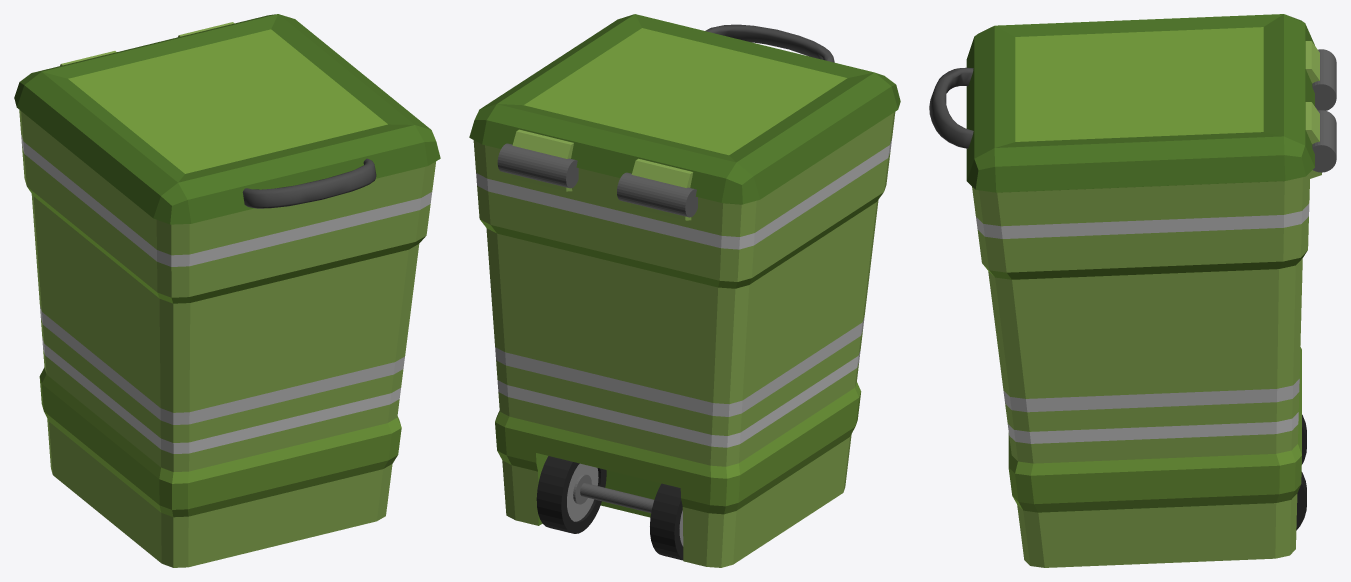
File: Garbage Can Plastic.fbx
3 views of the same model, side by side, from view 1: azimuth 30°, elevation 25°; view 2: azimuth 150°, elevation 25°; view 3: azimuth 270°, elevation 25° (orthographic). The views are drawn at different scales.
Visible parts, largest first — view 1: Garbage Can Plastic; view 2: Garbage Can Plastic; view 3: Garbage Can Plastic.
Part boxes in pixels (box(x1,y1,x2,y2)): Garbage Can Plastic: box(14, 14, 440, 567); Garbage Can Plastic: box(469, 14, 900, 567); Garbage Can Plastic: box(929, 14, 1336, 567).
Bounding box in the file's own units: 67.7 × 93.53 × 79.11.
Materials: 1 (1 with a texture image).
